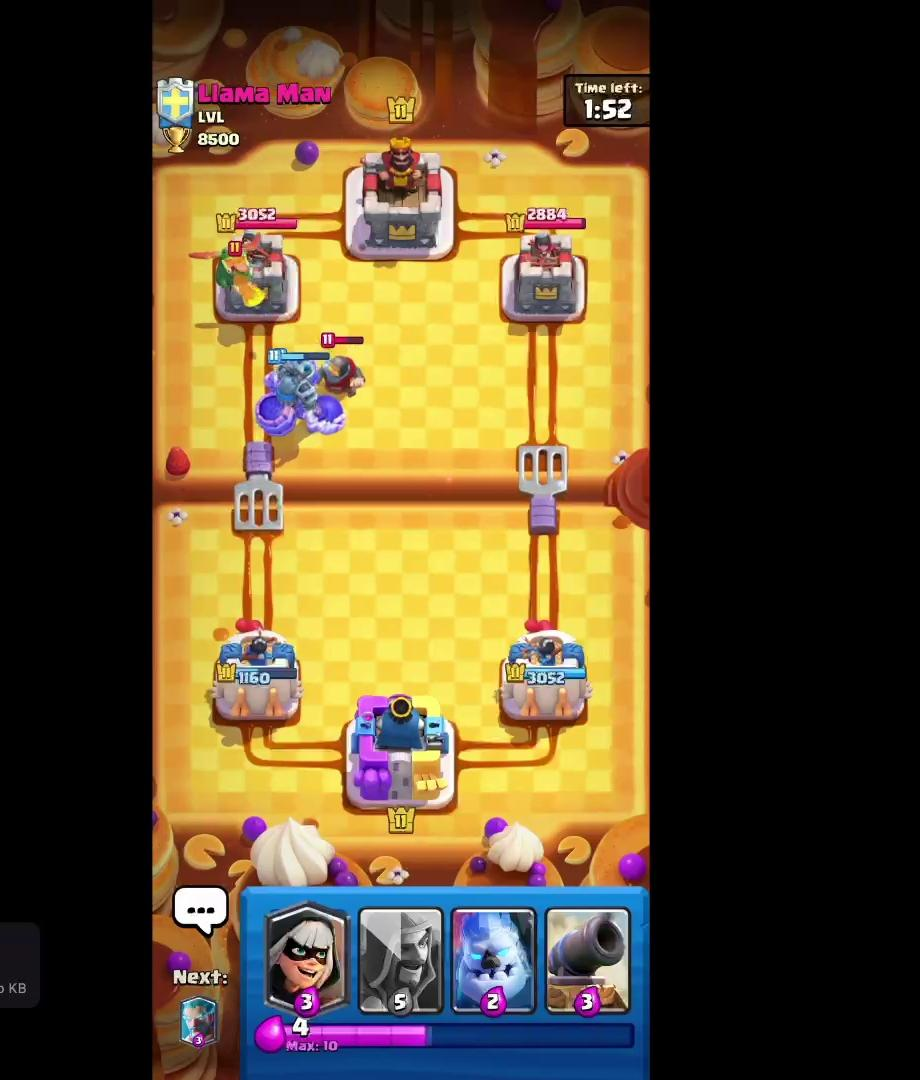Baby Dragon: (190, 241, 267, 300)
Knight: (310, 331, 379, 402)
